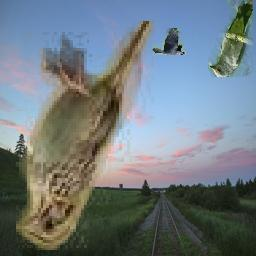Crow: (152, 29, 186, 56)
Cuckoo: (209, 1, 254, 78)
Sparrow: (16, 22, 156, 251)
